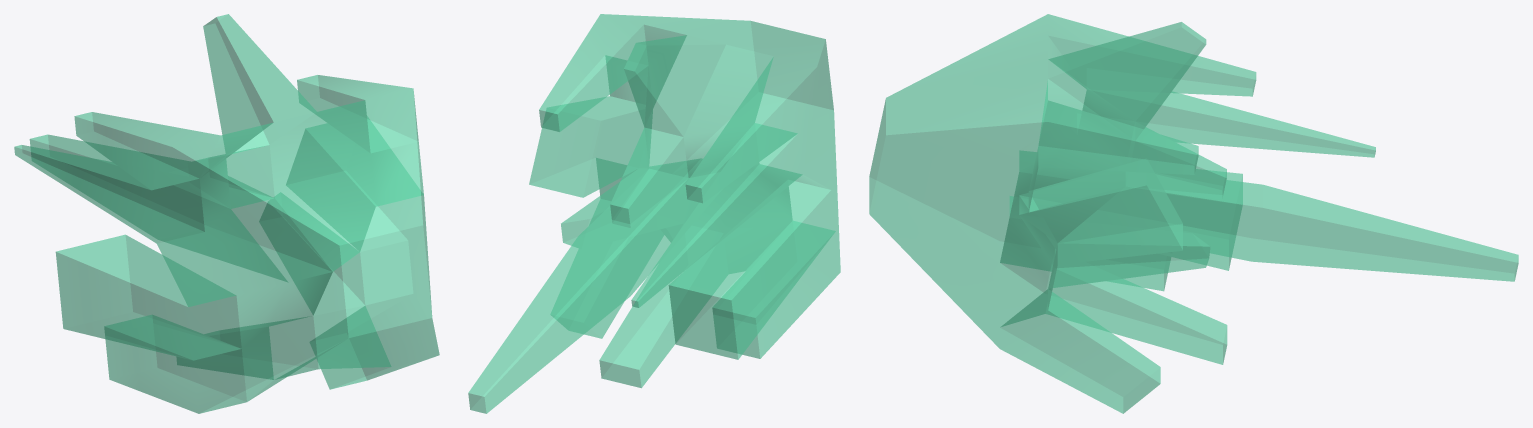
File: Magic2.fbx
The picture shows the model from 3 angles, left to right: view 1: azimuth 30°, elevation 25°; view 2: azimuth 150°, elevation 25°; view 3: azimuth 270°, elevation 25°; orthographic projection. The views are drawn at different scales.
Parts seen in each view (by area): view 1: Magic_4; view 2: Magic_4; view 3: Magic_4.
Boxes of the visible parts, x1,y1,x2,y2 form: Magic_4: (14, 14, 439, 413); Magic_4: (468, 14, 840, 413); Magic_4: (869, 14, 1518, 413).
Bounding box in the file's own units: 0.3113 × 0.4262 × 0.74.
